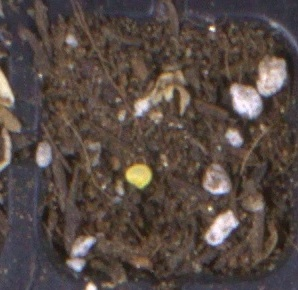chilli seed: (124, 163, 153, 190)
